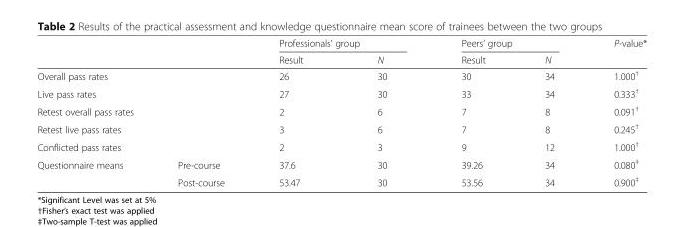table: (36, 37, 646, 187)
table column: (36, 37, 149, 187), (149, 37, 251, 187), (423, 37, 514, 187), (251, 37, 339, 187), (339, 37, 423, 187), (514, 37, 583, 187), (583, 37, 646, 187)
table column header: (36, 37, 646, 66)
table row: (36, 66, 646, 84), (36, 101, 646, 119), (36, 119, 646, 137), (36, 154, 646, 172), (36, 84, 646, 101), (36, 137, 646, 154), (36, 51, 646, 66), (36, 172, 646, 187), (36, 37, 646, 51)
table spanning cell: (36, 66, 251, 84), (36, 101, 251, 119), (36, 119, 251, 137), (36, 154, 149, 187), (36, 84, 251, 101), (36, 137, 251, 154), (251, 37, 423, 51), (423, 37, 583, 51), (583, 37, 646, 66)
